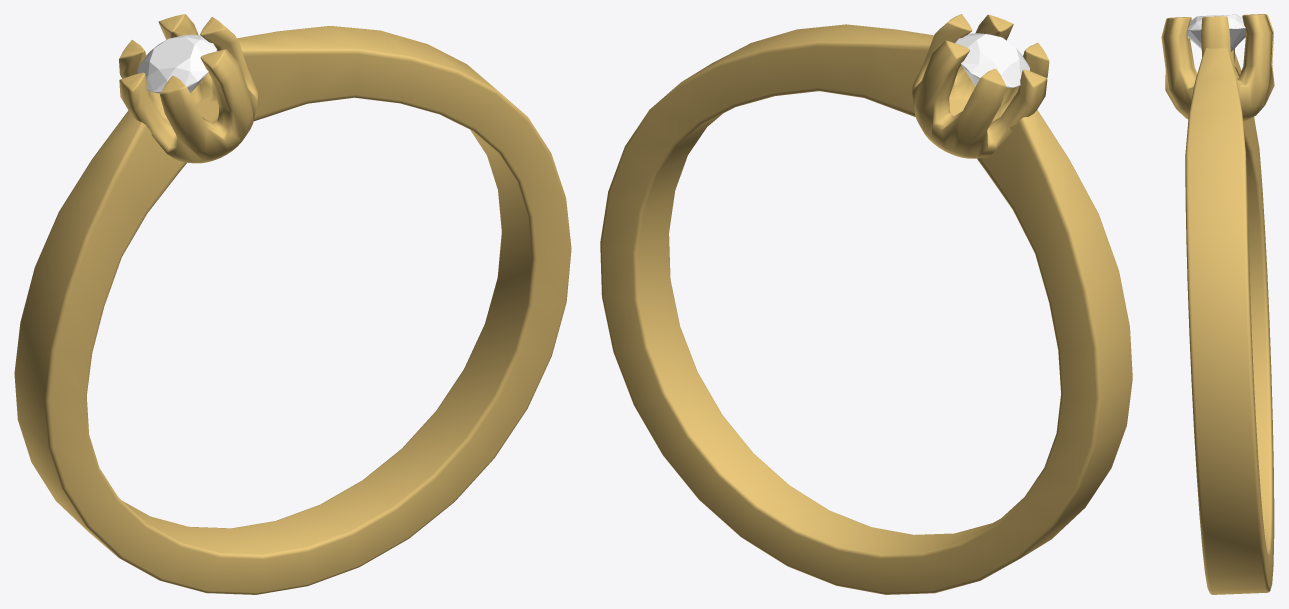
The model's file is ring-v1.glb.
The picture shows the model from 3 angles, left to right: view 1: azimuth 30°, elevation 25°; view 2: azimuth 150°, elevation 25°; view 3: azimuth 270°, elevation 25°; orthographic projection. The views are drawn at different scales.
Visible parts, largest first — view 1: Circle, Sphere, DIA(WHITE); view 2: Circle, Sphere, DIA(WHITE); view 3: Circle, Sphere, DIA(WHITE).
Boxes of the visible parts, x1,y1,x2,y2 form: Circle: (14,26,571,594); Sphere: (119,14,257,163); DIA(WHITE): (137,34,216,93); Circle: (600,24,1132,594); Sphere: (912,14,1049,158); DIA(WHITE): (955,33,1029,87); Circle: (1185,47,1274,594); Sphere: (1161,14,1274,121); DIA(WHITE): (1187,14,1245,51).
Bounding box in the file's own units: 2.7 × 2.9 × 0.5731.
